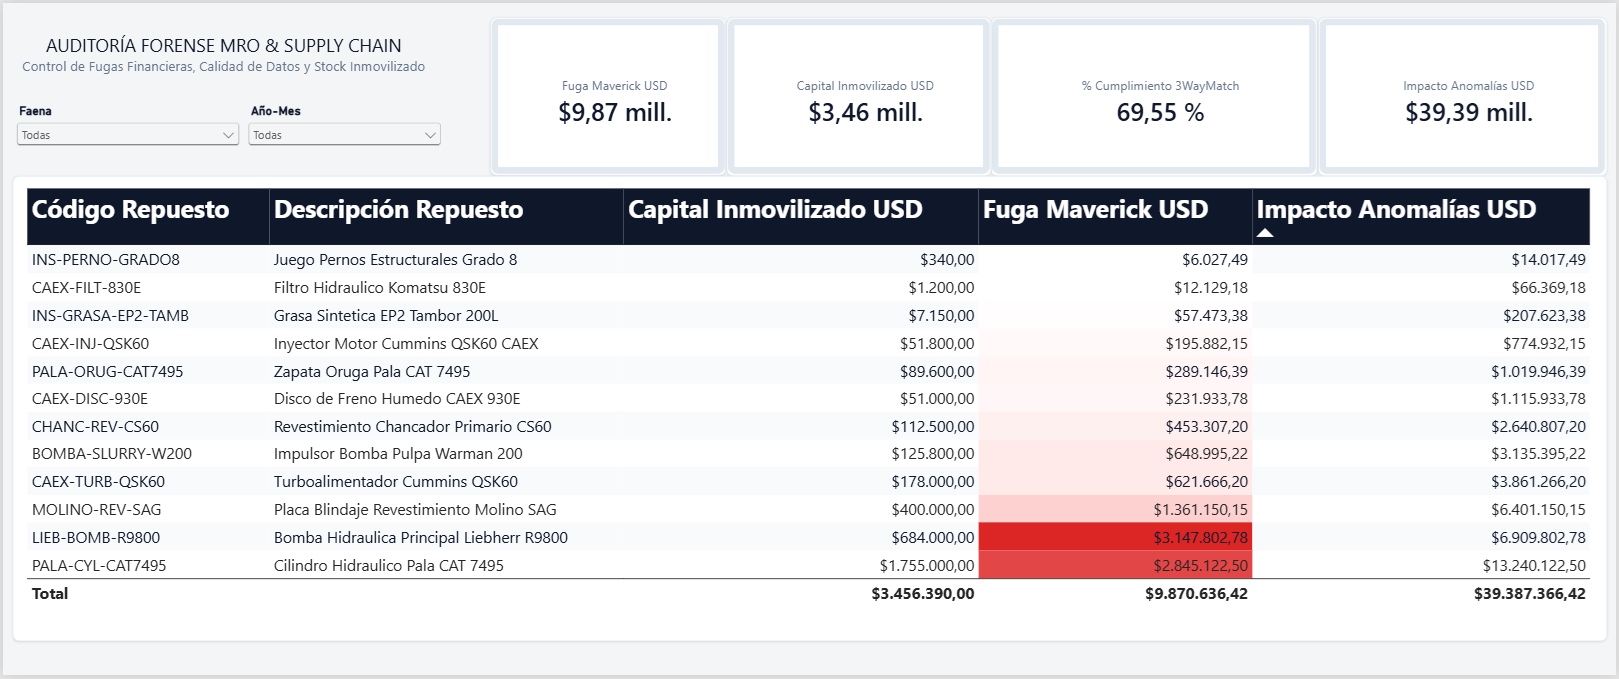

This screenshot's page, from the dashboard's own definition file:
{"tool":"powerbi","page":{"name":"Página 1","canvas":[1920,800],"ordinal":0},"visuals":[{"type":"cardVisual","fields":{"Data":["_Medidas.Fuga Maverick USD"]},"box":[579.9,16.9,281,188.6],"z":0},{"type":"cardVisual","fields":{"Data":["_Medidas.% Cumplimiento 3WayMatch"]},"box":[1176.4,16.8,389.4,188.8],"z":1000},{"type":"cardVisual","fields":{"Data":["_Medidas.Capital Inmovilizado USD"]},"box":[861,16.8,315.2,188.8],"z":2000},{"type":"cardVisual","fields":{"Data":["_Medidas.Impacto Anomalias USD"]},"box":[1566,16.8,343.9,188.8],"z":3000},{"type":"slicer","fields":{"Values":["Dim_Faena.faena"]},"box":[11.8,119.7,274.8,72.5],"z":4000},{"type":"slicer","fields":{"Values":["Dim_Calendario.Año-Mes"]},"box":[286.6,119.7,239.3,72.5],"z":5000},{"type":"tableEx","fields":{"Values":["Dim_Repuesto.codigo_repuesto","Dim_Repuesto.descripcion_repuesto","_Medidas.Capital Inmovilizado USD","_Medidas.Fuga Maverick USD","_Medidas.Impacto Anomalias USD"]},"box":[11.8,205.6,1898,554.6],"z":6000},{"type":"textbox","box":[0,16.9,525.9,94.4],"z":7000}]}

Visuals, with their boxes in screenshot pixels (x1, y1, x2, y2), scaled from the page's 1920x800 canvas onto the 1619x679 screenshot:
cardVisual - _Medidas.Fuga Maverick USD: locate(489, 14, 726, 174)
cardVisual - _Medidas.% Cumplimiento 3WayMatch: locate(992, 14, 1320, 175)
cardVisual - _Medidas.Capital Inmovilizado USD: locate(726, 14, 992, 175)
cardVisual - _Medidas.Impacto Anomalias USD: locate(1320, 14, 1610, 175)
slicer - Dim_Faena.faena: locate(10, 102, 242, 163)
slicer - Dim_Calendario.Año-Mes: locate(242, 102, 443, 163)
tableEx - Dim_Repuesto.codigo_repuesto x Dim_Repuesto.descripcion_repuesto: locate(10, 175, 1610, 645)
textbox: locate(0, 14, 443, 94)
